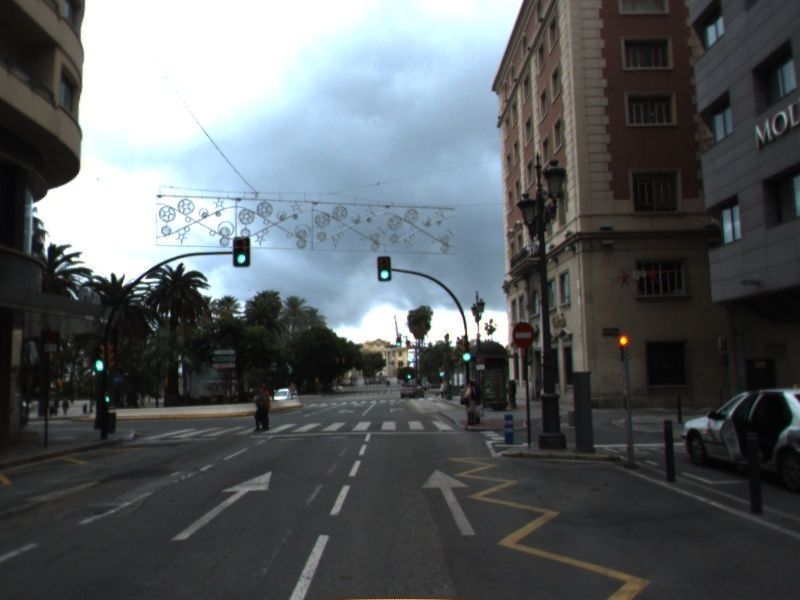STRAIGHT: (169, 469, 274, 542), (419, 467, 479, 537), (1, 478, 101, 519)
